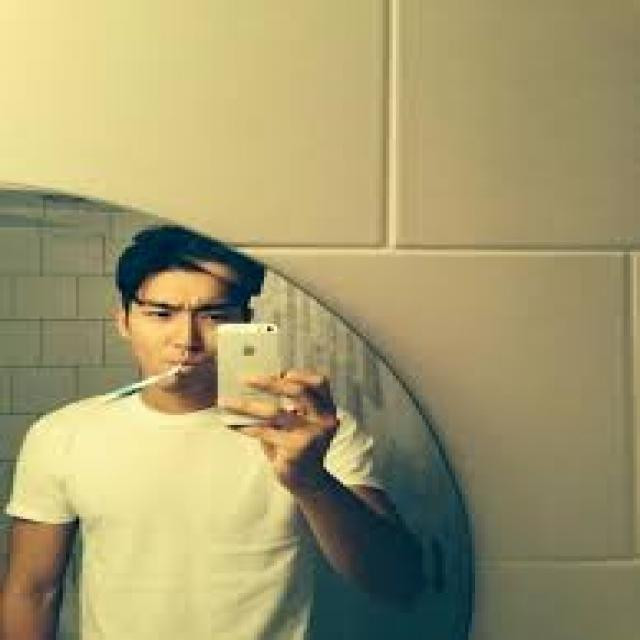Phone: (216, 324, 284, 418)
